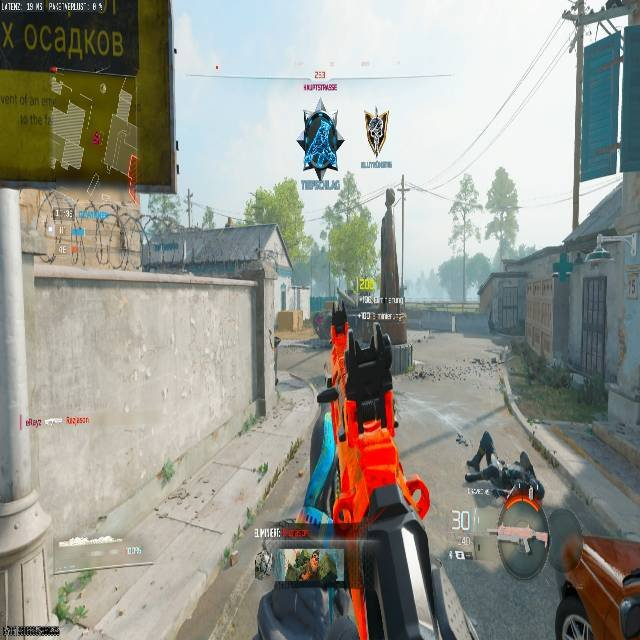player: (464, 429, 549, 557), (297, 110, 343, 181), (314, 312, 323, 336)
